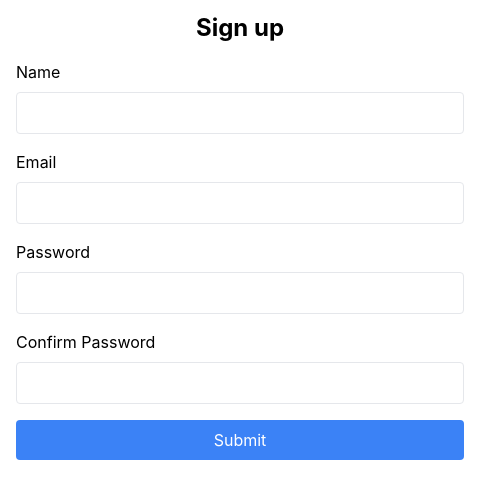
Test: RegisterPage › displays error message on API failure
Step 1. Type "John Doe" into the field labelled "Name" → (240, 113), box [16,92,464,134]
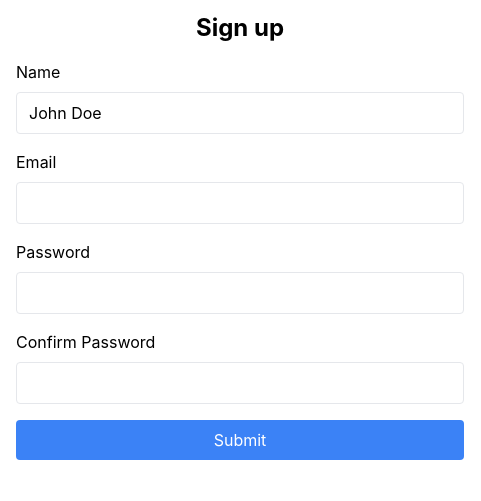
Step 2. Type "john@example.com" into the field labelled "Email" → (240, 203), box [16,182,464,224]
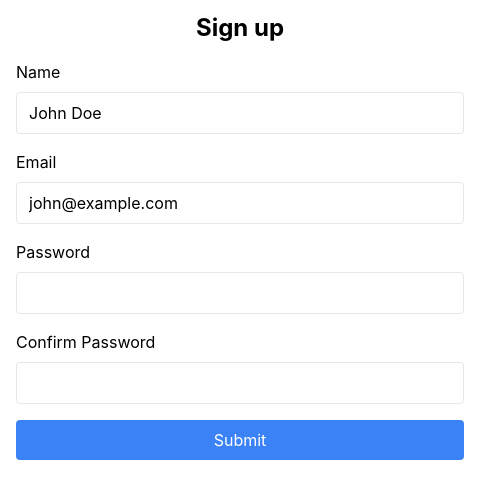
Step 3. Type "password" into the password field labelled "Password" → (240, 293), box [16,272,464,314]
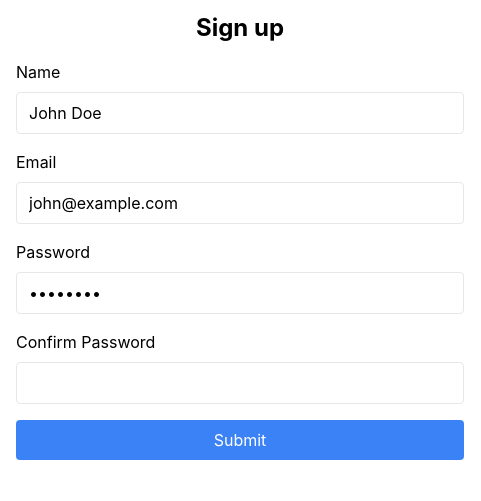
Step 4. Type "password" into the password field labelled "Confirm Password" → (240, 383), box [16,362,464,404]
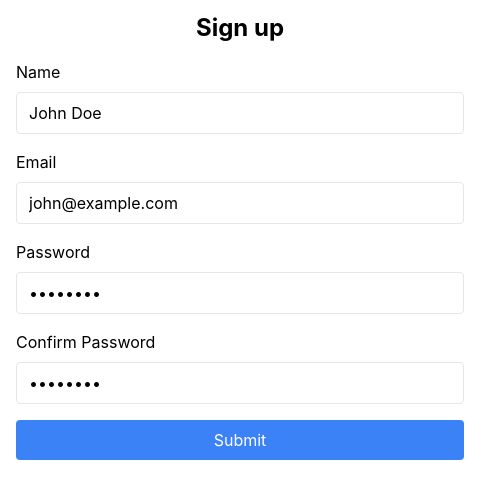
Step 5. Click the button "Submit" → (240, 440), box [16,420,464,460]
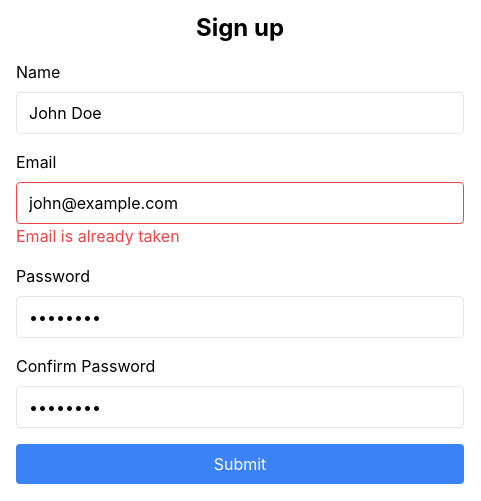
Now the text "Email is already taken" is shown, box [16,226,180,246]
